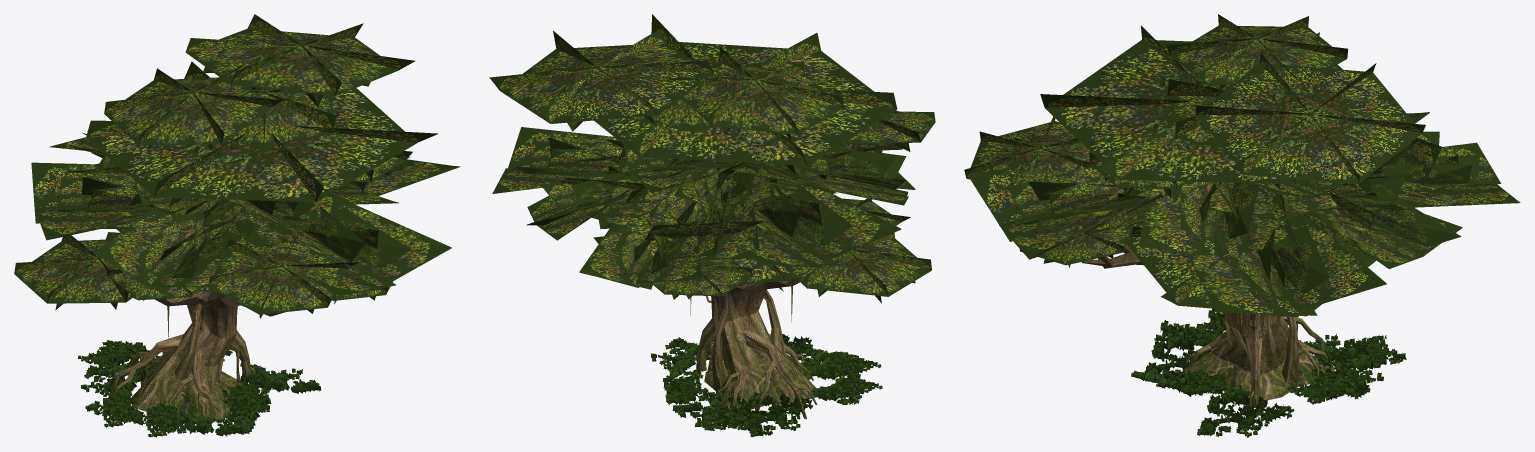
Rendered from arbol4.obj.
3 views of the same model, side by side, from view 1: azimuth 30°, elevation 25°; view 2: azimuth 150°, elevation 25°; view 3: azimuth 270°, elevation 25° (orthographic). The views are drawn at different scales.
Parts seen in each view (by area): view 1: Object002, Object003, Object001; view 2: Object002, Object003, Object001; view 3: Object002, Object003, Object001.
Part boxes in pixels (x1,y1,x2,y2): Object002: [14, 14, 460, 341]; Object003: [77, 340, 321, 437]; Object001: [109, 201, 297, 419]; Object002: [489, 14, 935, 322]; Object003: [651, 333, 882, 437]; Object001: [696, 144, 851, 419]; Object002: [964, 14, 1520, 328]; Object003: [1131, 308, 1406, 437]; Object001: [1098, 245, 1334, 408].
Bounding box in the file's own units: 239 × 181 × 250.
Materials: 3 (3 with a texture image).
